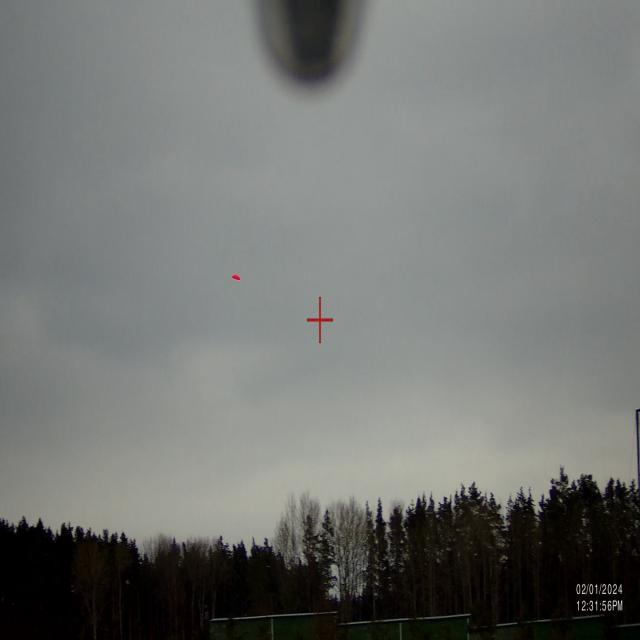entire: (227, 273, 245, 284)
